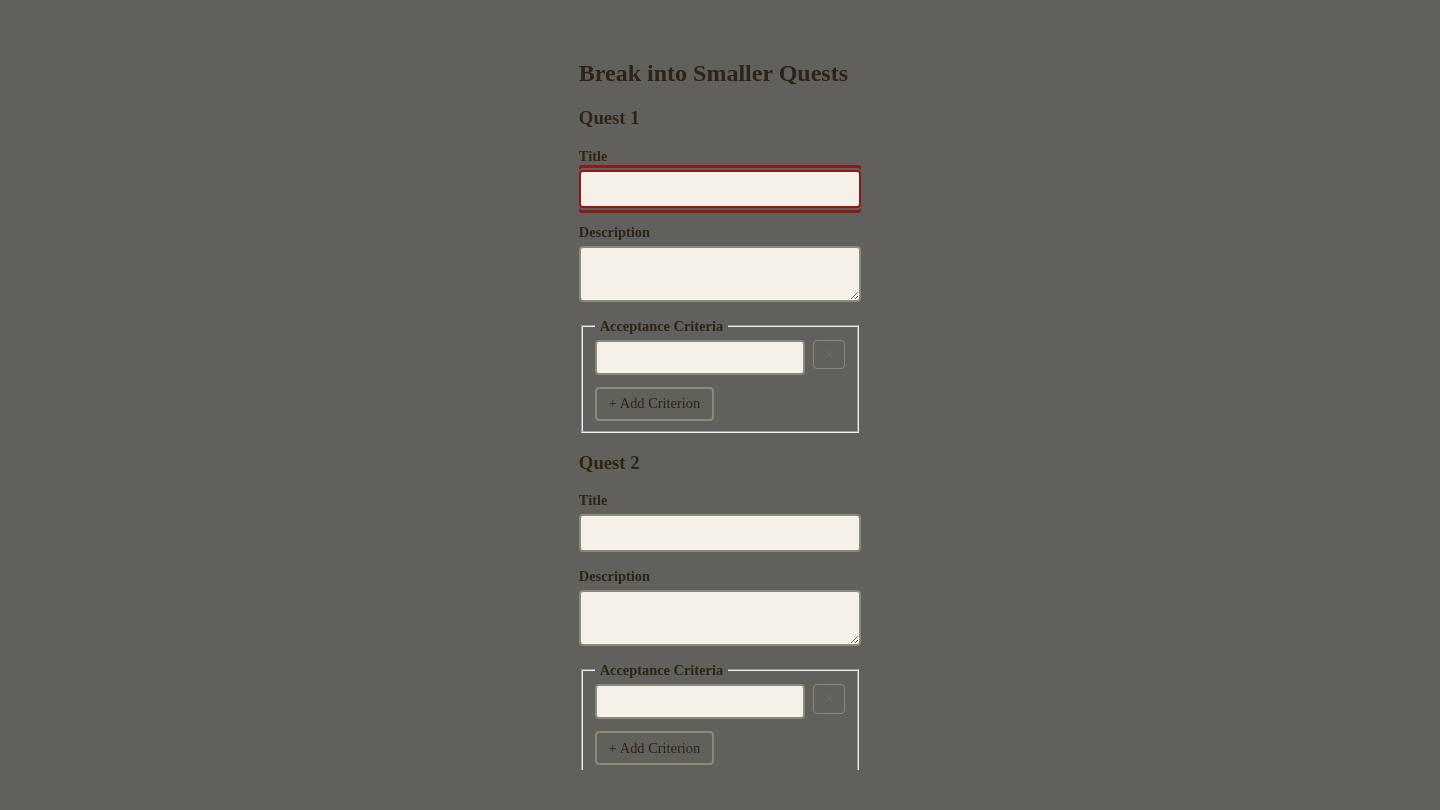
SplitDialog › Submit button remains disabled with only one valid child
The width and height of the screenshot is (1440, 810).
Type "Quest A" into the 1st field labelled "Title" at (720, 189), box [579,170,861,208]
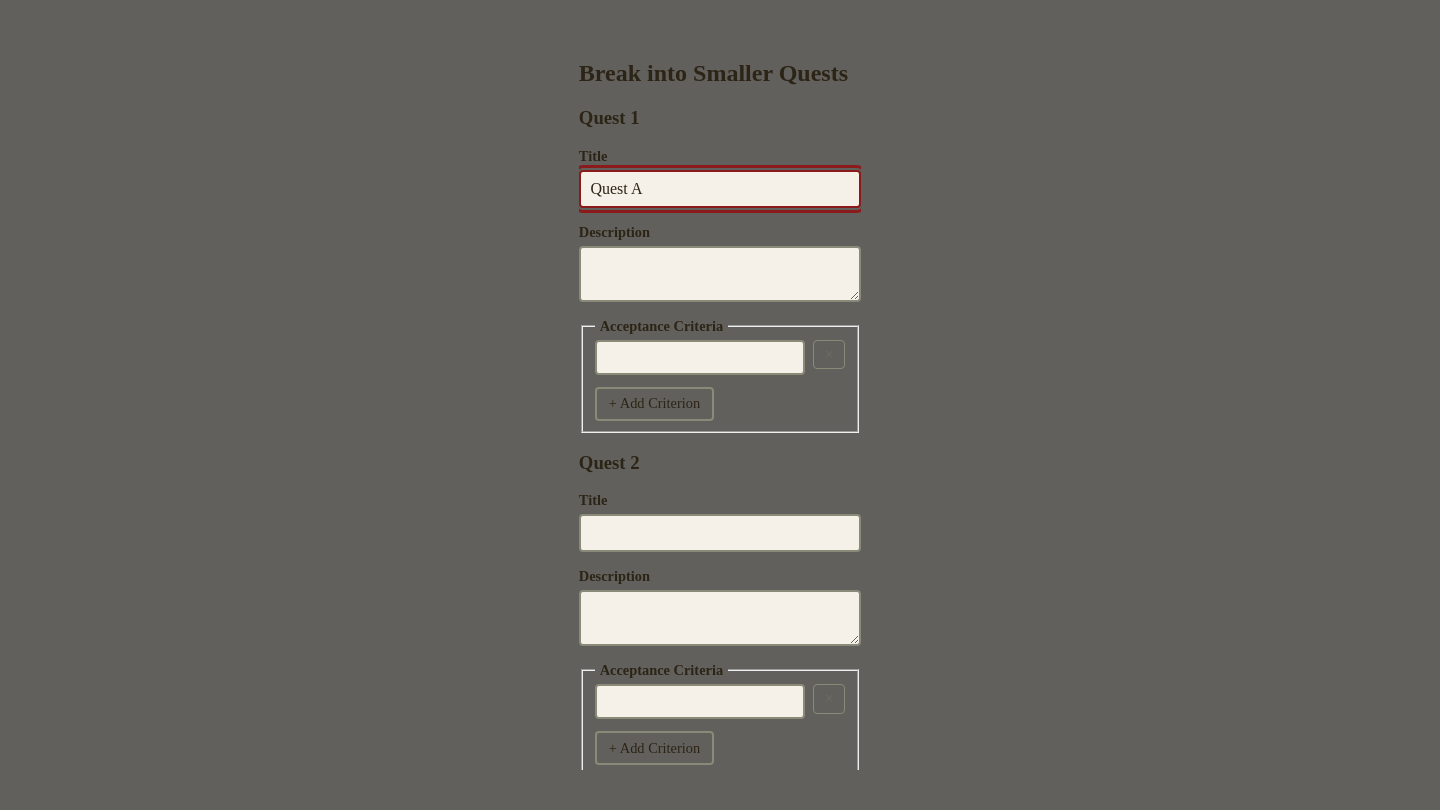
Type "AC for A" into the field named "criterion 1 for quest 1" at (700, 358), box [595,340,805,375]
(page scrolled)
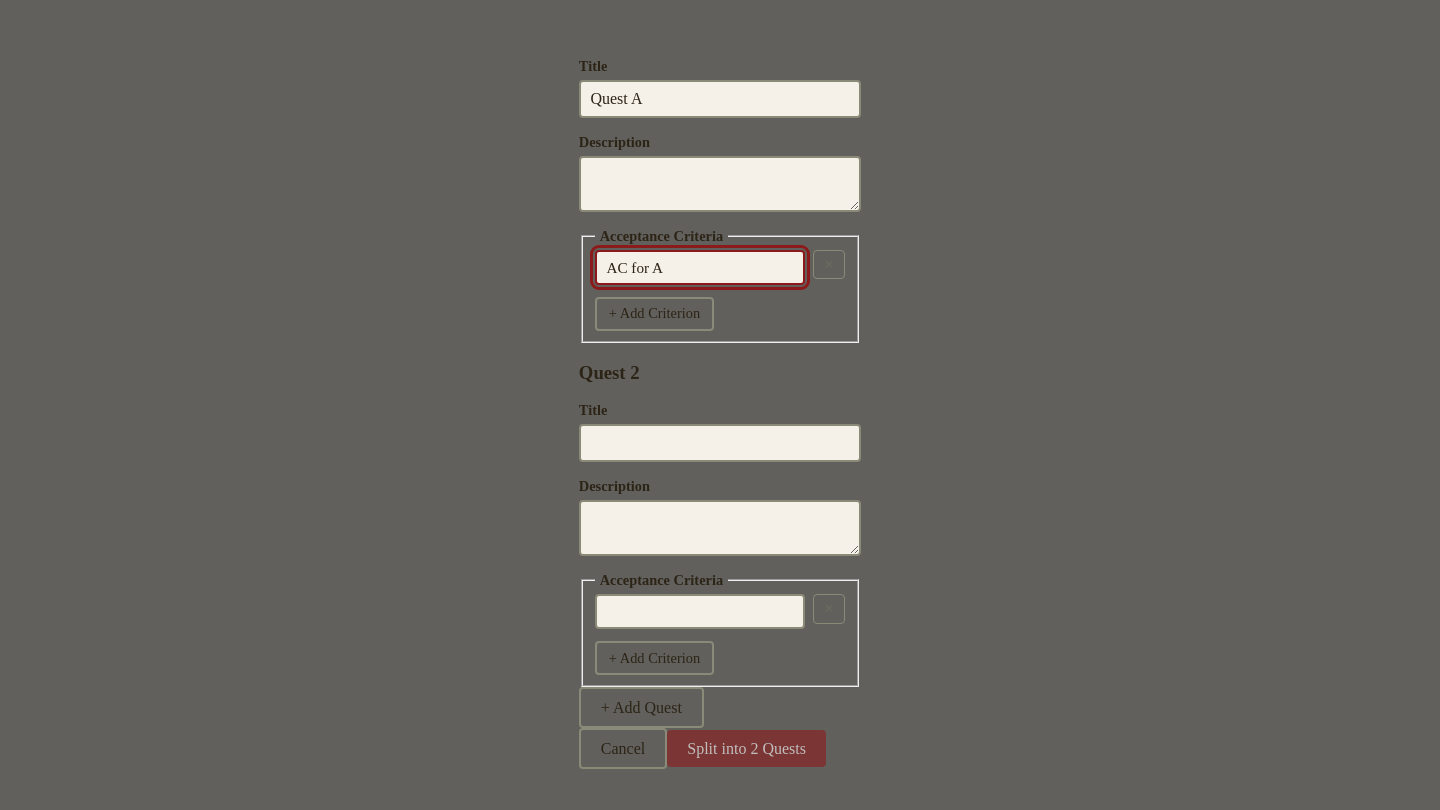
Expected: the button "Split into 2 Quests" is disabled, [667,730,826,767]
